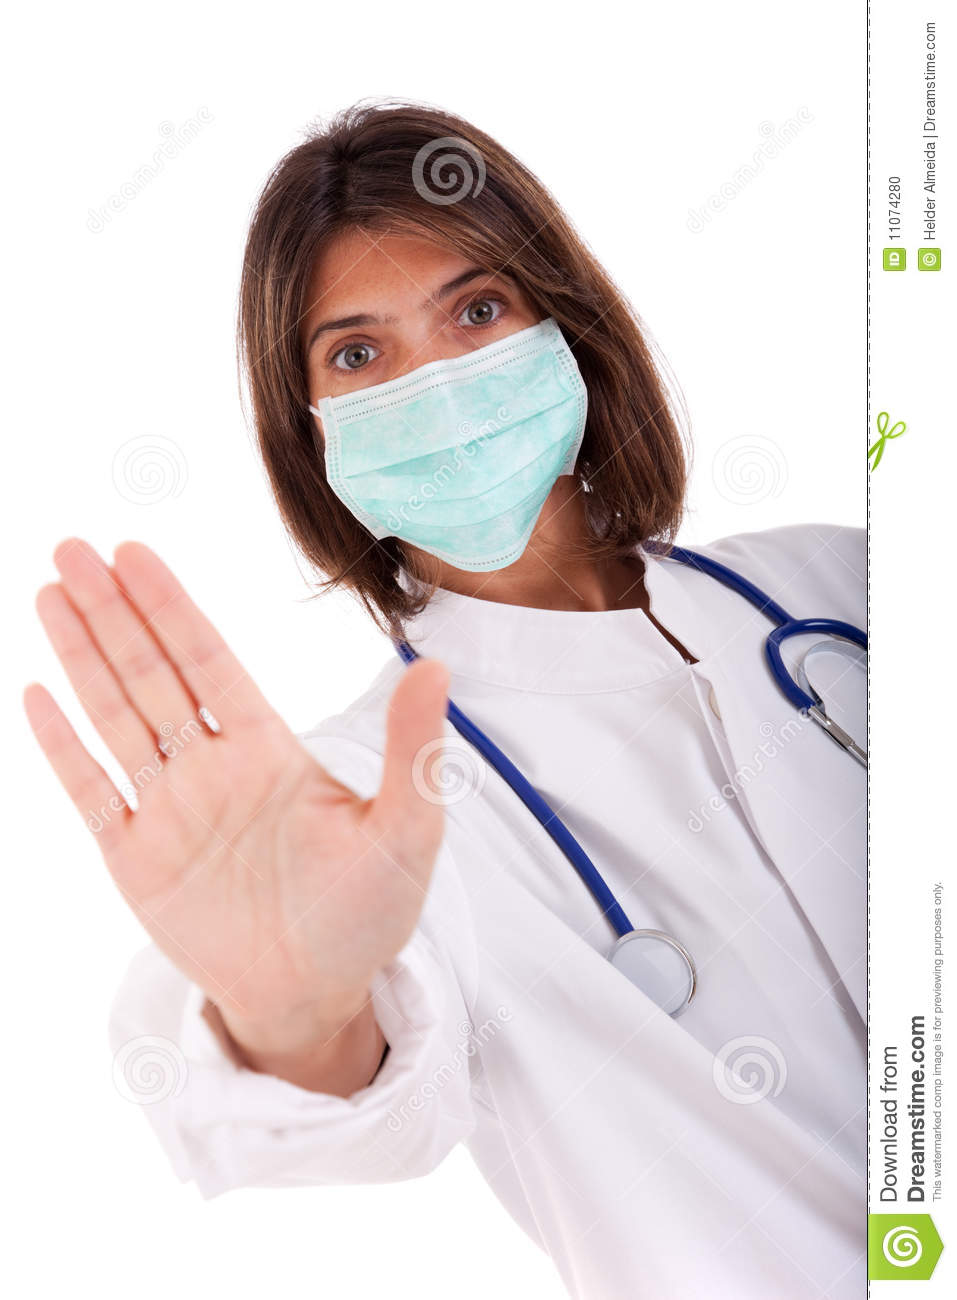mask: (322, 328, 590, 581)
